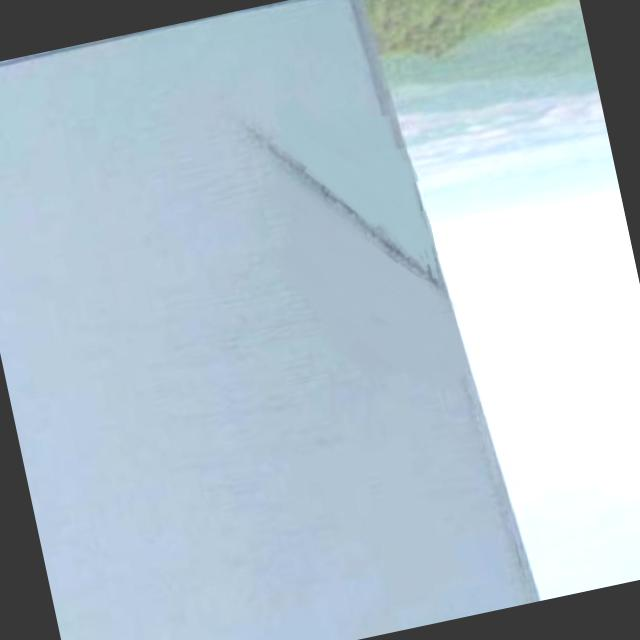crack: (245, 102, 434, 308)
